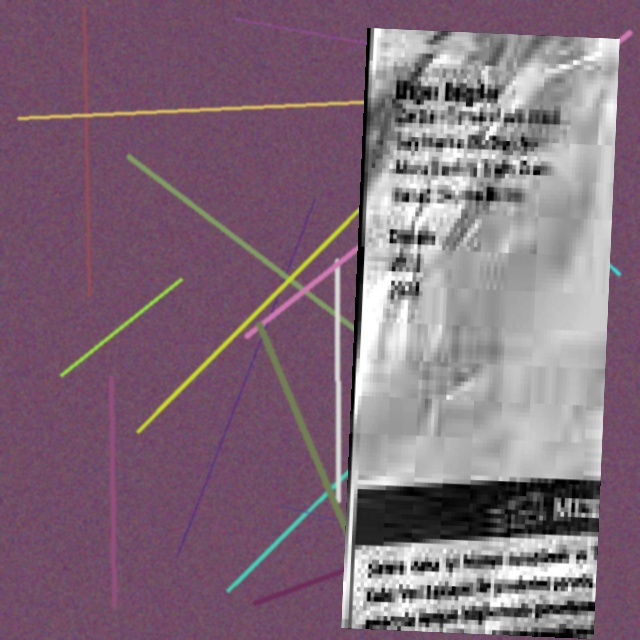electricity-bill: (341, 27, 619, 638)
